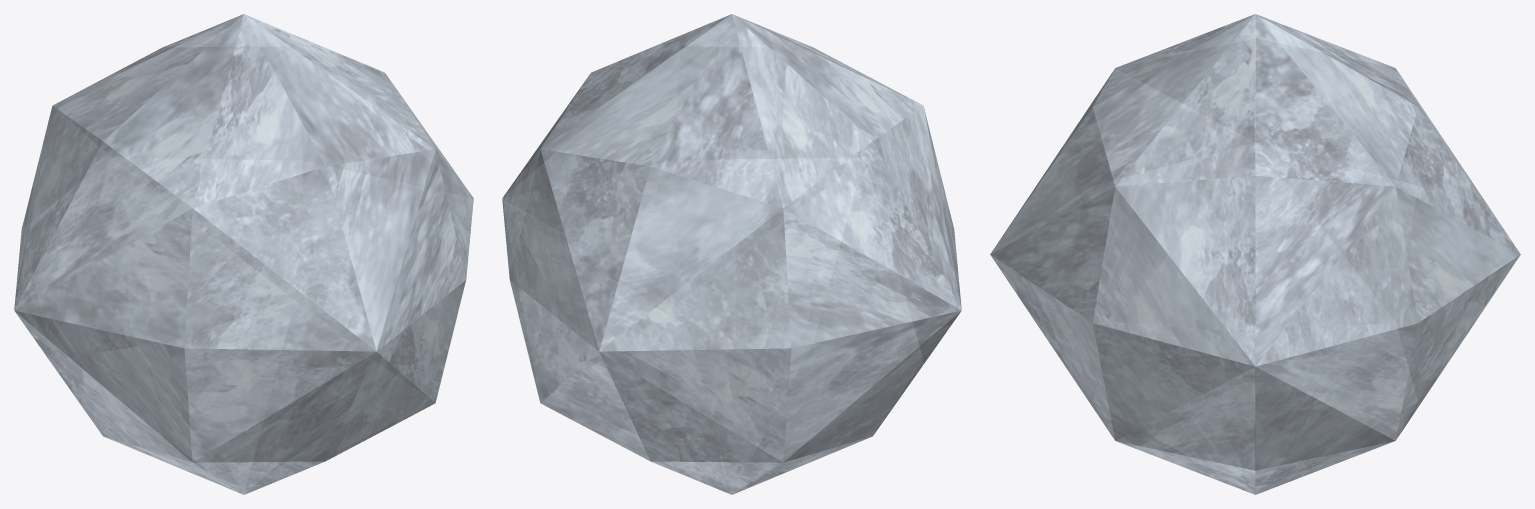
Rendered from DisdyakisDodecahedron.obj.
3 views of the same model, side by side, from view 1: azimuth 30°, elevation 25°; view 2: azimuth 150°, elevation 25°; view 3: azimuth 270°, elevation 25° (orthographic).
Bounding box in the file's own units: 5.35 × 5.35 × 5.35.
Materials: 1 (1 with a texture image).
